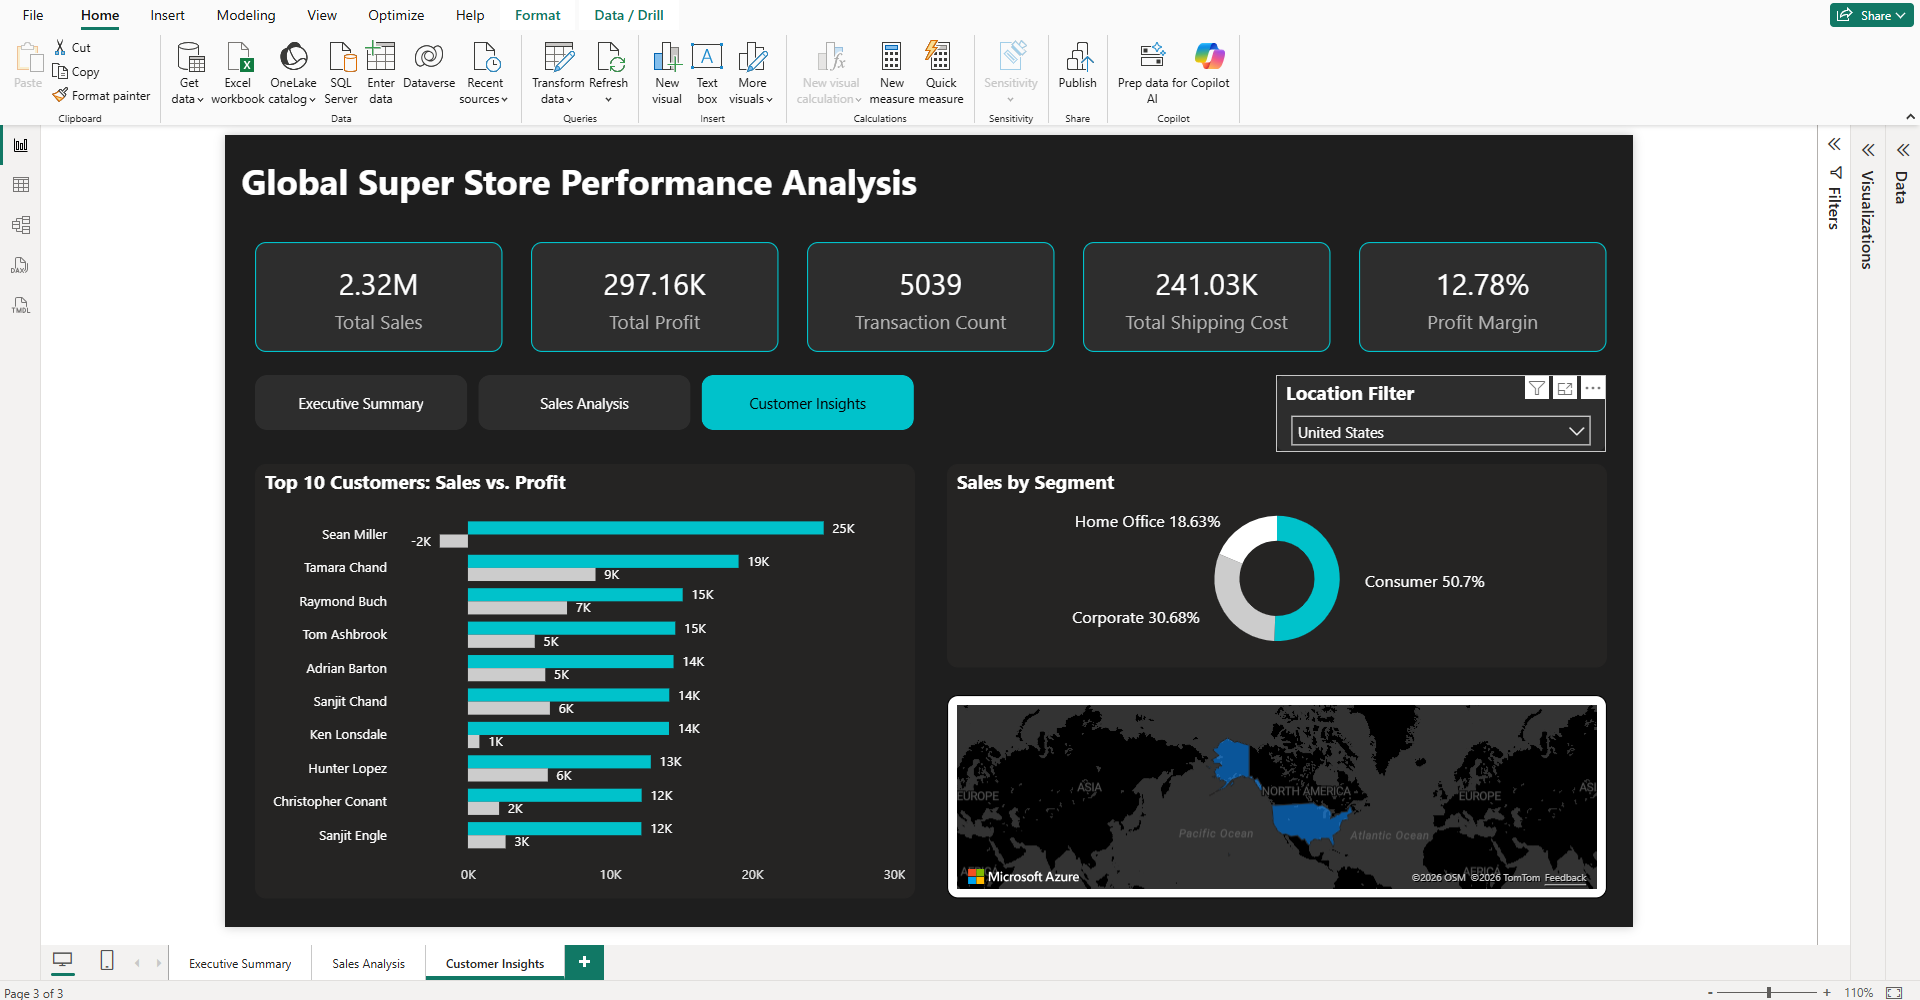

This screenshot's page, from the dashboard's own definition file:
{"tool":"powerbi","page":{"name":"Customer Insights","canvas":[1280,720],"ordinal":2},"visuals":[{"type":"textbox","box":[10,14.2,625,60],"z":0},{"type":"card","fields":{"Values":["_Measures.Total Profit"]},"box":[278.1,97.5,225,100.1],"z":1000},{"type":"card","fields":{"Values":["_Measures.Transaction Count"]},"box":[529,97.5,225,100.1],"z":2000},{"type":"card","fields":{"Values":["_Measures.Total Shipping Cost"]},"box":[779.9,97.5,225,100.1],"z":3000},{"type":"card","fields":{"Values":["_Measures.Profit Margin"]},"box":[1030.8,97.5,224.8,100.1],"z":4000},{"type":"pageNavigator","box":[27.2,217.8,599.7,50],"z":5000},{"type":"clusteredBarChart","title":"Top 10 Customers: Sales vs. Profit","fields":{"Category":["vw_Dim_Customers.CustomerName"],"Y":["_Measures.Total Sales","_Measures.Total Profit"]},"box":[27,299,600,395],"z":6000},{"type":"donutChart","title":"Sales by Segment","fields":{"Category":["vw_Dim_Customers.Segment"],"Y":["_Measures.Total Sales"]},"box":[656,299,600,185],"z":7000},{"type":"slicer","title":"Location Filter","fields":{"Values":["vw_Dim_Geography.Country Hierarchy.Country","vw_Dim_Geography.Country Hierarchy.State","vw_Dim_Geography.Country Hierarchy.City"]},"box":[955.6,217.8,300,70],"z":8000},{"type":"azureMap","fields":{"Category":["vw_Dim_Geography.Country Hierarchy.Country","vw_Dim_Geography.Country Hierarchy.State","vw_Dim_Geography.Country Hierarchy.City"]},"box":[656,509,600,185],"z":9000},{"type":"card","fields":{"Values":["_Measures.Total Sales"]},"box":[27.2,97.5,225,100.1],"z":10000}]}

Visuals, with their boxes on the page's 1280x720 design canvas (x1, y1, x2, y2). These are canvas units, not pixel positions in the 1920x1000 screenshot, which may show the page scaled, cropped or inside an application window:
textbox: {"left": 10, "top": 14, "right": 635, "bottom": 74}
card - _Measures.Total Profit: {"left": 278, "top": 98, "right": 503, "bottom": 198}
card - _Measures.Transaction Count: {"left": 529, "top": 98, "right": 754, "bottom": 198}
card - _Measures.Total Shipping Cost: {"left": 780, "top": 98, "right": 1005, "bottom": 198}
card - _Measures.Profit Margin: {"left": 1031, "top": 98, "right": 1256, "bottom": 198}
pageNavigator: {"left": 27, "top": 218, "right": 627, "bottom": 268}
"Top 10 Customers: Sales vs. Profit" clusteredBarChart: {"left": 27, "top": 299, "right": 627, "bottom": 694}
"Sales by Segment" donutChart: {"left": 656, "top": 299, "right": 1256, "bottom": 484}
"Location Filter" slicer: {"left": 956, "top": 218, "right": 1256, "bottom": 288}
azureMap - vw_Dim_Geography.Country Hierarchy.Country x vw_Dim_Geography.Country Hierarchy.State: {"left": 656, "top": 509, "right": 1256, "bottom": 694}
card - _Measures.Total Sales: {"left": 27, "top": 98, "right": 252, "bottom": 198}
